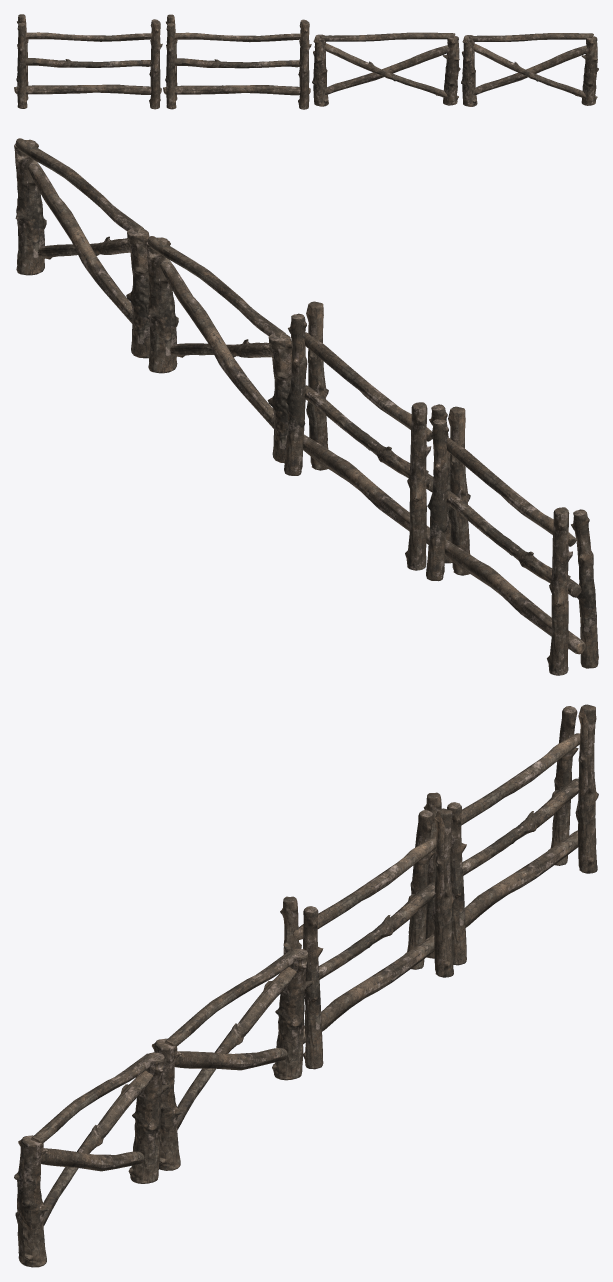
The model's file is SM_Fence_01a_Splines_8.fbx.
3 views of the same model, one above another, from view 1: azimuth 30°, elevation 25°; view 2: azimuth 150°, elevation 25°; view 3: azimuth 270°, elevation 25° (orthographic). The views are drawn at different scales.
Parts seen in each view (by area): view 1: SM_Fence_01a_Splines_2_LOD0; view 2: SM_Fence_01a_Splines_2_LOD0; view 3: SM_Fence_01a_Splines_2_LOD0.
Boxes of the visible parts, x1,y1,x2,y2 form: SM_Fence_01a_Splines_2_LOD0: (14,14,598,109); SM_Fence_01a_Splines_2_LOD0: (14,138,598,675); SM_Fence_01a_Splines_2_LOD0: (14,704,598,1267).
Bounding box in the file's own units: 760 × 456 × 140.
